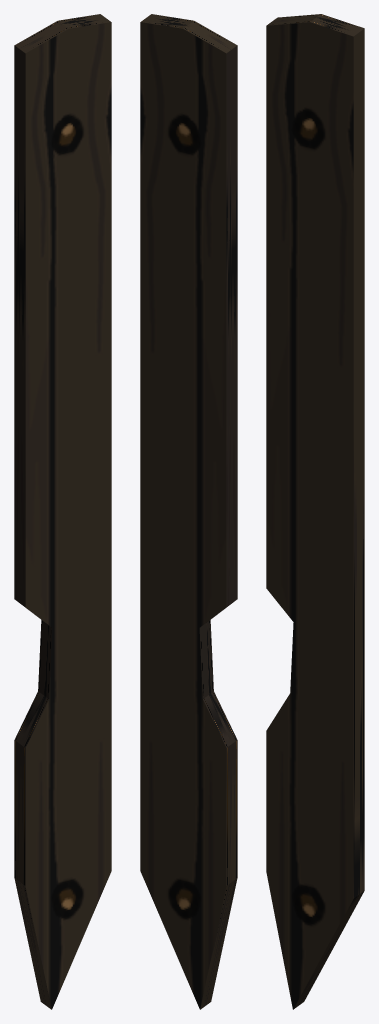
The model's file is ThanhGoA.fbx.
3 renders of one model, left to right at view 1: azimuth 30°, elevation 25°; view 2: azimuth 150°, elevation 25°; view 3: azimuth 330°, elevation 25°, orthographic.
Visible parts, largest first — view 1: ThanhGoA; view 2: ThanhGoA; view 3: ThanhGoA.
Part boxes in pixels (x1,y1,x2,y2): ThanhGoA: [14, 14, 111, 1009]; ThanhGoA: [140, 14, 237, 1009]; ThanhGoA: [266, 14, 364, 1009].
Size of the model in its own units: 0.0528 by 0.2364 by 2.57.
Materials: 1 (1 with a texture image).
